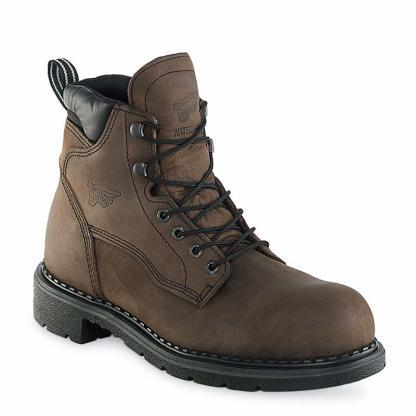bota: (21, 38, 389, 392)
